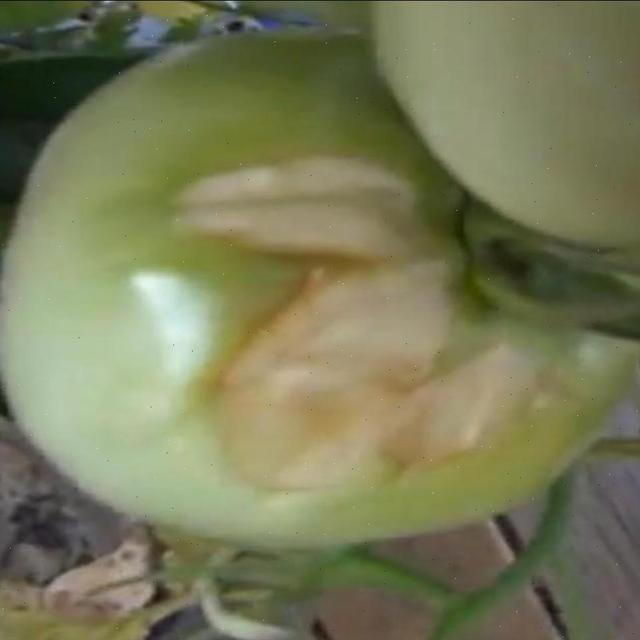Sunscald Fruit: (114, 102, 366, 336)
